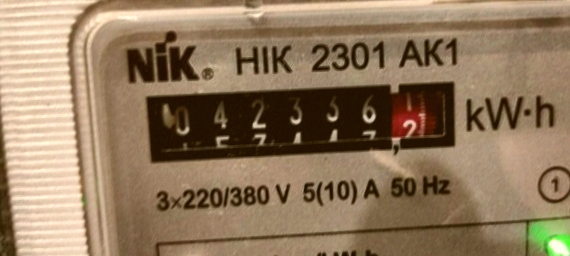0: (170, 104, 191, 138)
1: (400, 88, 413, 115)
2: (246, 97, 269, 132), (398, 119, 416, 141)
3: (283, 94, 303, 127), (322, 92, 340, 125)
4: (210, 99, 229, 131)
6: (357, 93, 379, 128)
screen: (131, 68, 470, 175)
